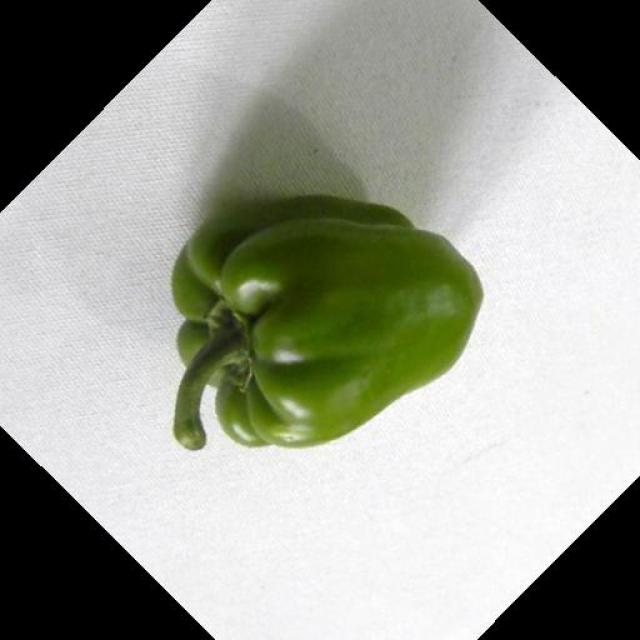Fresh_Capsicum: (149, 172, 481, 458)
